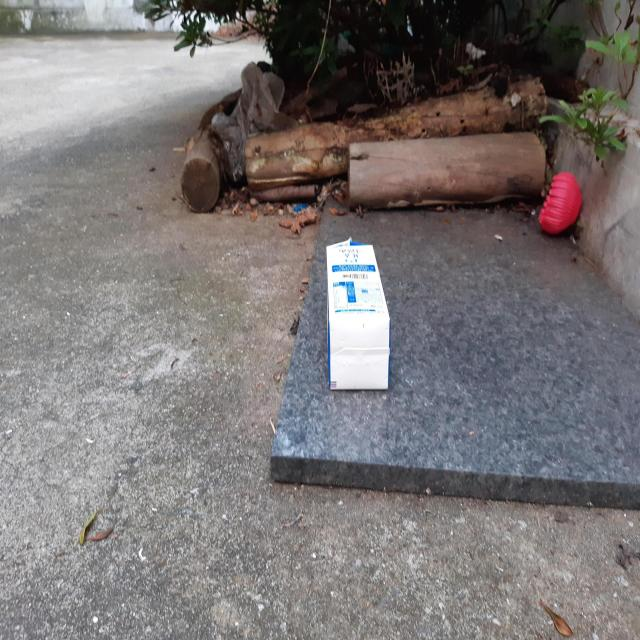paperpack: (326, 236, 390, 389)
